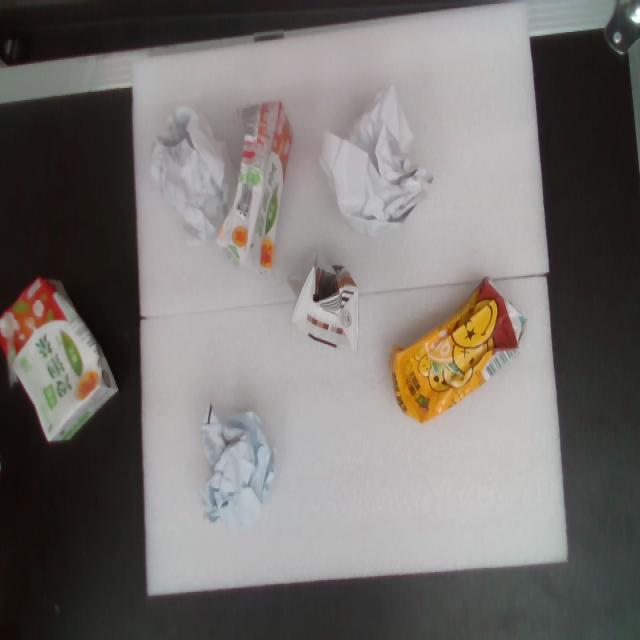juicebox: (356, 269, 556, 453), (0, 249, 145, 464), (205, 81, 313, 285), (278, 245, 393, 370)
paper: (110, 86, 284, 280), (285, 68, 457, 258), (179, 392, 298, 546)
